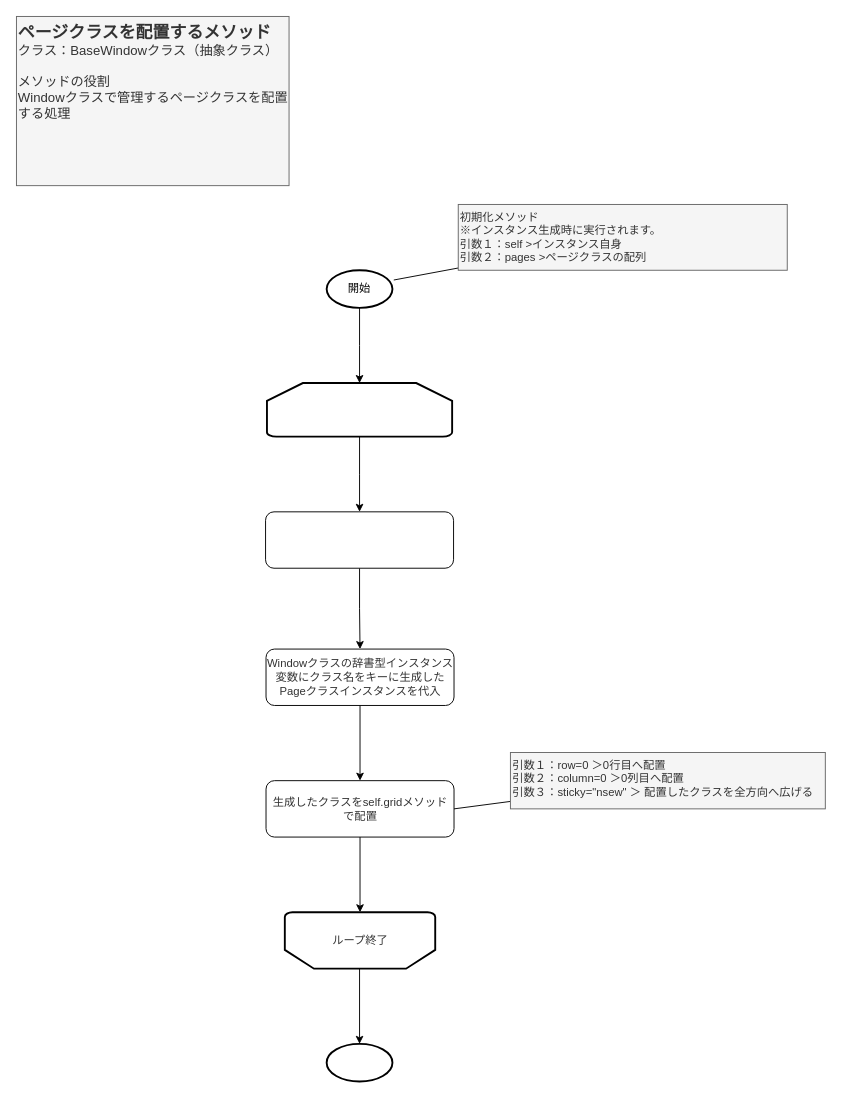
Some shapes in this 842 by 1099 pixel diagram are drawn without their labels. Each missing label, with the box of its shape:
Windowクラスに配置する 引数２の配列分ループする ループ開始: (266, 382, 453, 437)
取り出したPageクラスインスタンスから取り出した クラス名（文字列）を取得: (265, 511, 454, 568)
終了: (325, 1042, 393, 1082)
